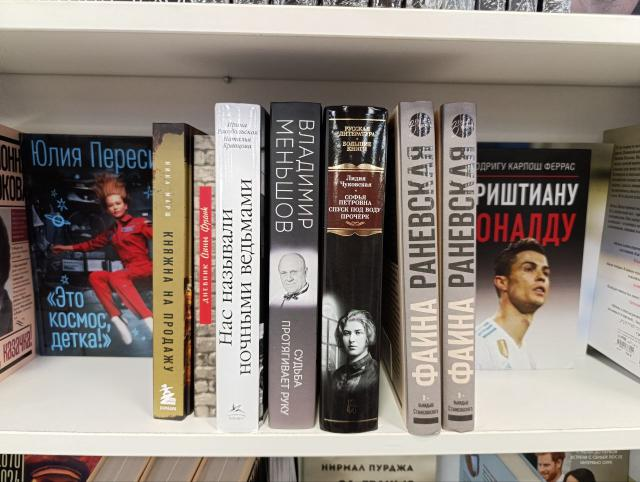book-s-spine: (323, 105, 387, 432), (269, 103, 321, 429), (215, 103, 260, 433), (400, 100, 441, 436), (444, 101, 476, 433), (153, 122, 185, 420), (194, 135, 216, 418)
